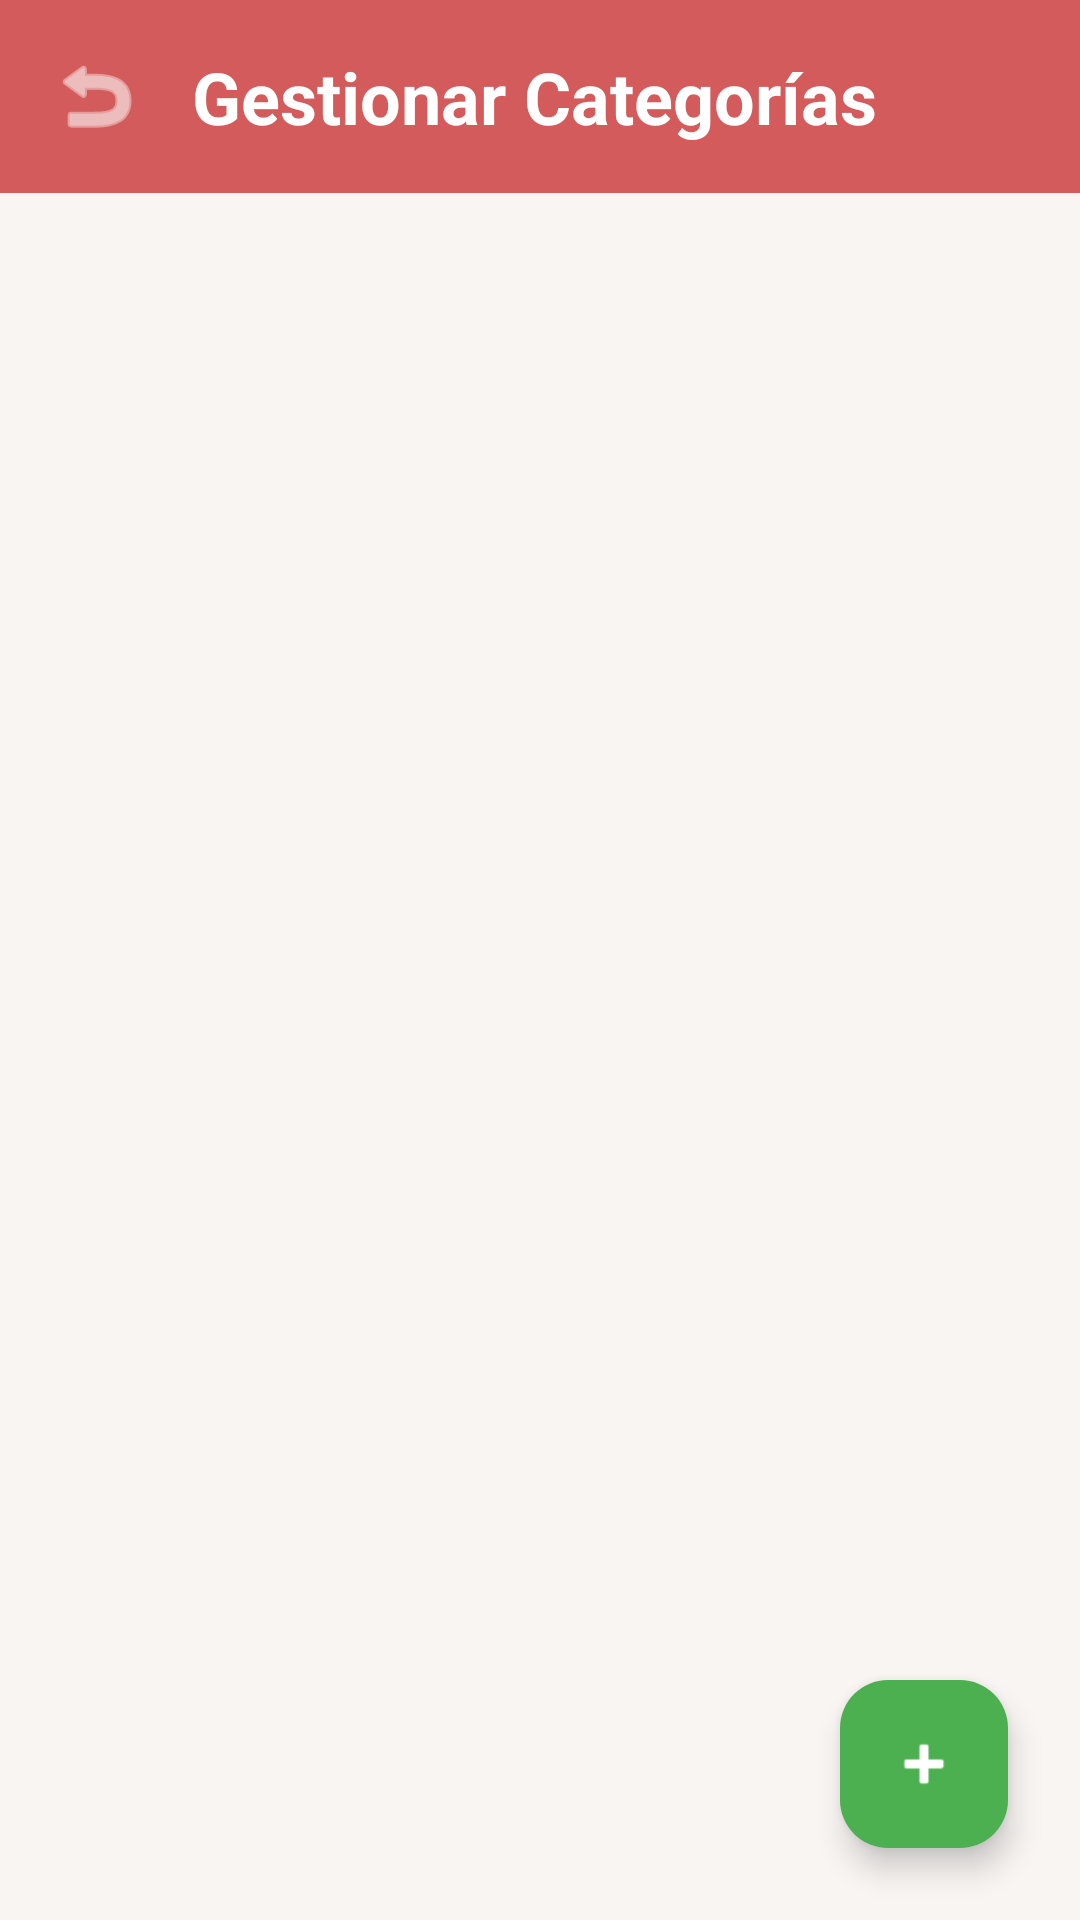

Named icons in this screenshot (1080w x 1920h) and their centers, (x=x, y=y):
add: (x=924, y=1764)
revert: (x=97, y=97)
